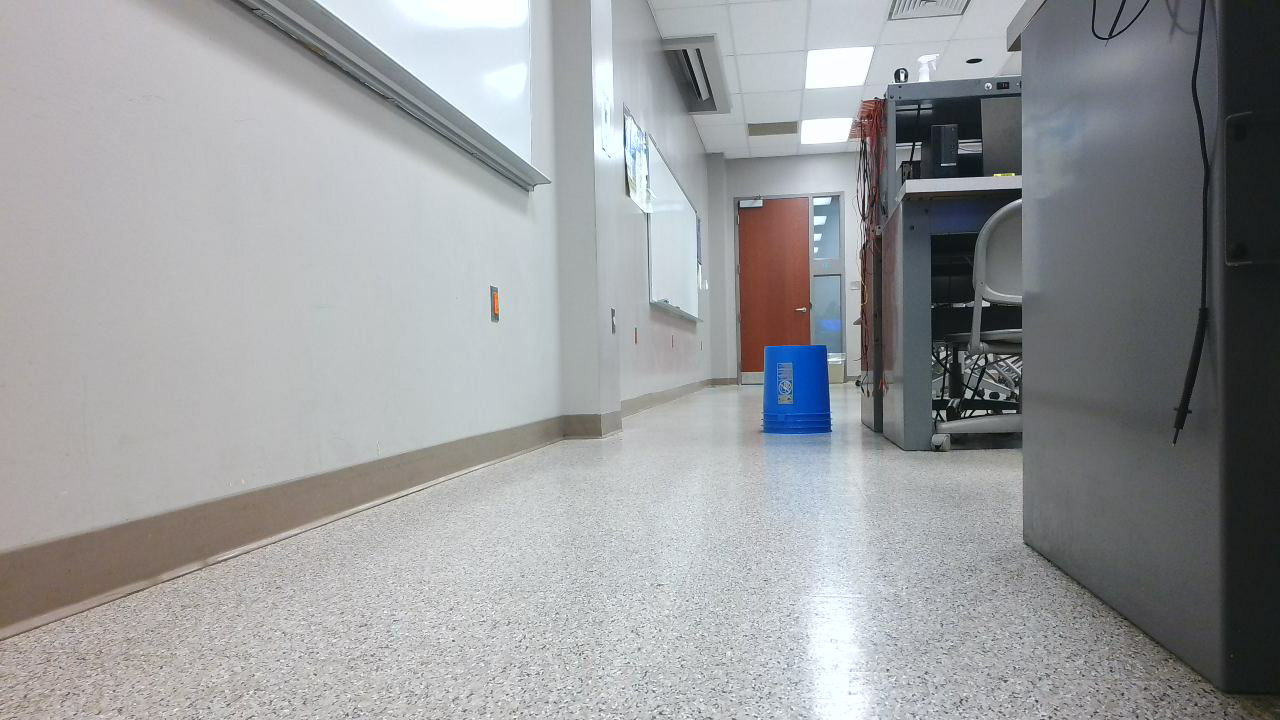blue_bucket: (761, 346, 841, 444)
